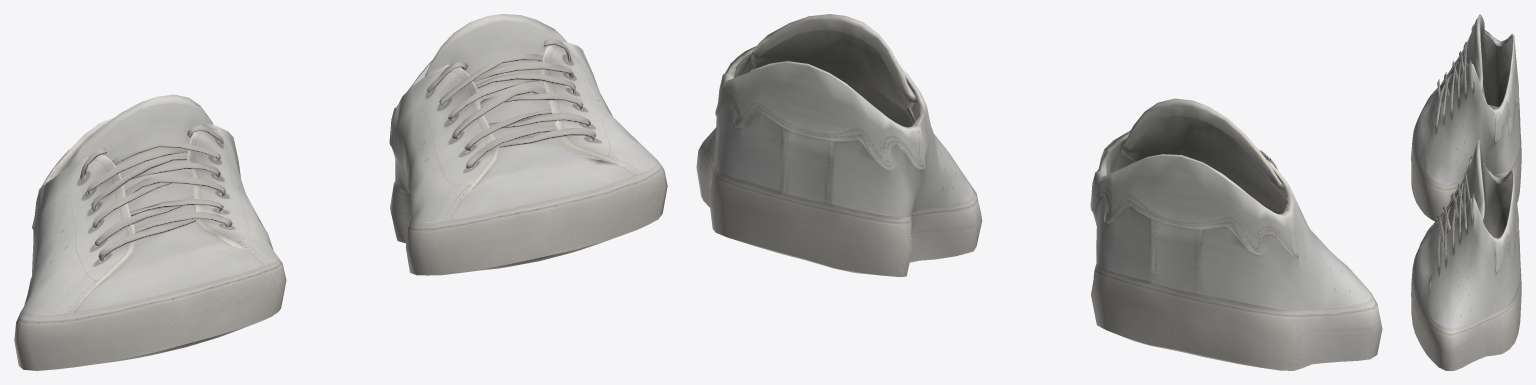
The model's file is carlos_sneakers_v2.glb.
3 views of the same model, side by side, from view 1: azimuth 30°, elevation 25°; view 2: azimuth 150°, elevation 25°; view 3: azimuth 270°, elevation 25° (orthographic). The views are drawn at different scales.
Parts seen in each view (by area): view 1: Sport_sneakers.001; view 2: Sport_sneakers.001; view 3: Sport_sneakers.001.
Boxes of the visible parts, <box> form: Sport_sneakers.001: <box>14,14,667,370</box>; Sport_sneakers.001: <box>696,14,1382,370</box>; Sport_sneakers.001: <box>1411,14,1521,370</box>.
Bounding box in the file's own units: 0.6015 × 0.1965 × 0.1156.
1 material, 1 textured.
